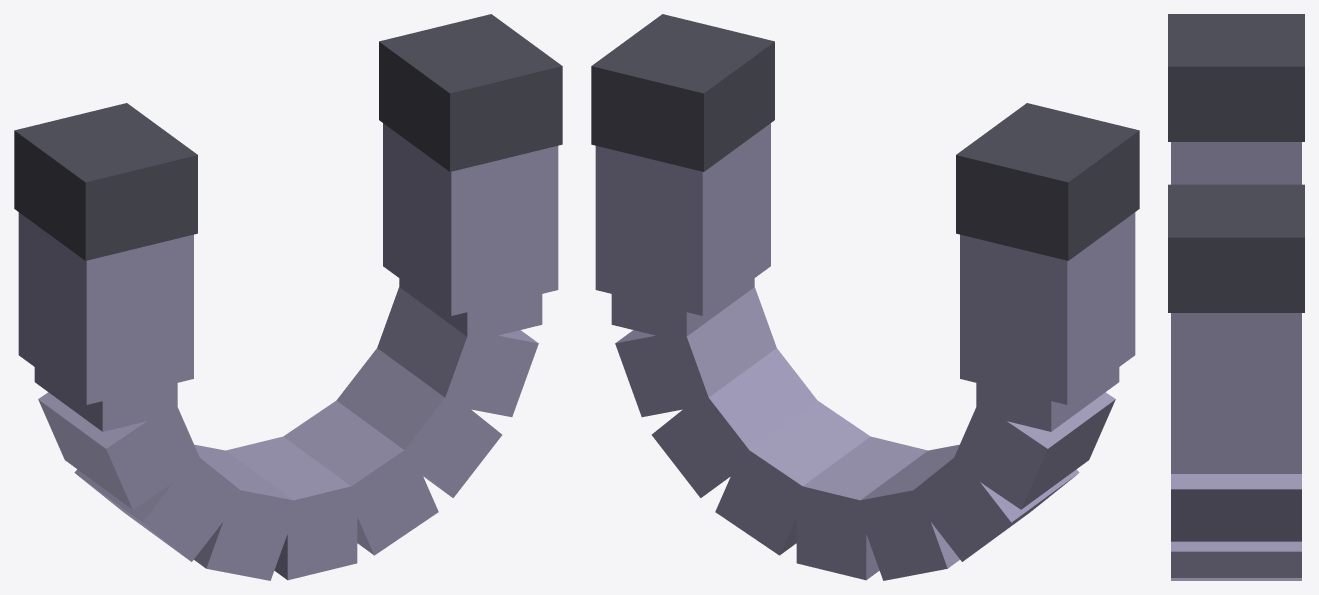
The model's file is pu-magnet.glb.
The picture shows the model from 3 angles, left to right: view 1: azimuth 30°, elevation 25°; view 2: azimuth 150°, elevation 25°; view 3: azimuth 270°, elevation 25°; orthographic projection. The views are drawn at different scales.
Parts seen in each view (by area): view 1: PU_magnet; view 2: PU_magnet; view 3: PU_magnet.
Part boxes in pixels (x1,y1,x2,y2): PU_magnet: (14, 14, 562, 580); PU_magnet: (591, 14, 1139, 580); PU_magnet: (1168, 14, 1304, 580).
Size of the model in its own units: 0.89 by 0.8 by 0.23.
